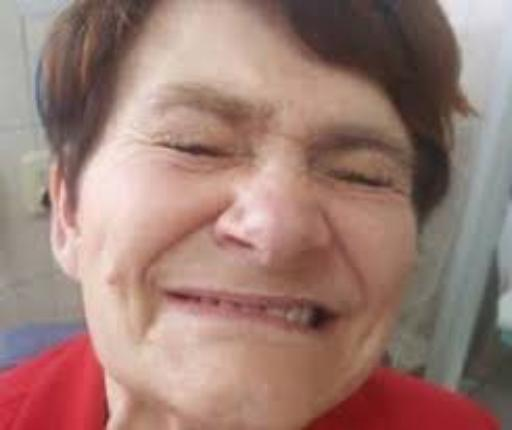left_eye: (324, 157, 401, 198)
left_lip_corner: (302, 294, 353, 329)
right_eye: (163, 138, 233, 165)
right_lip_corner: (154, 282, 197, 311)
